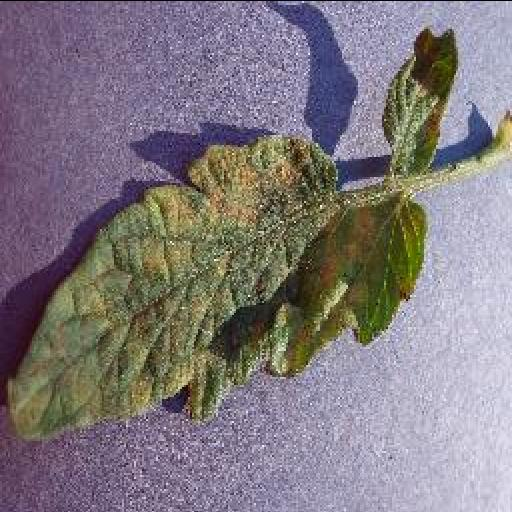disease_tomato: (4, 134, 428, 440)
